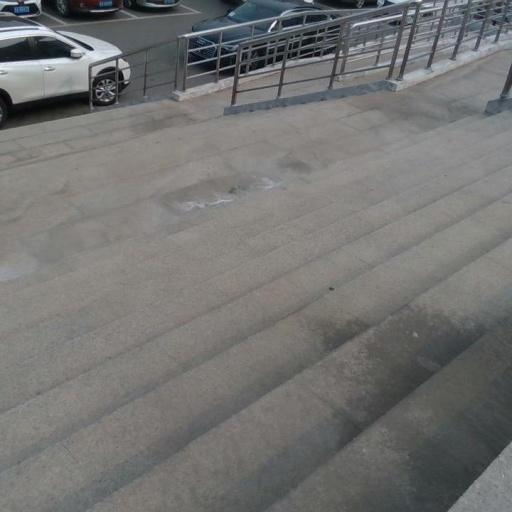stairs: (0, 106, 511, 511)
